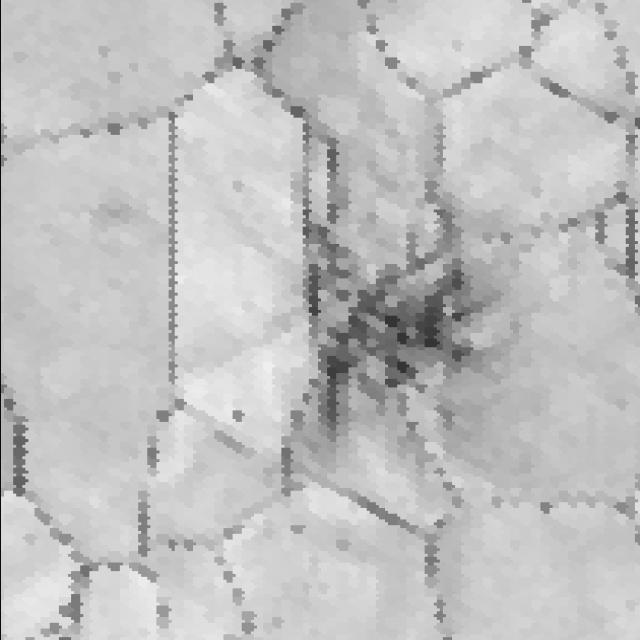good_void: (295, 235, 486, 451), (226, 403, 248, 423), (283, 520, 308, 537), (227, 179, 242, 191)
